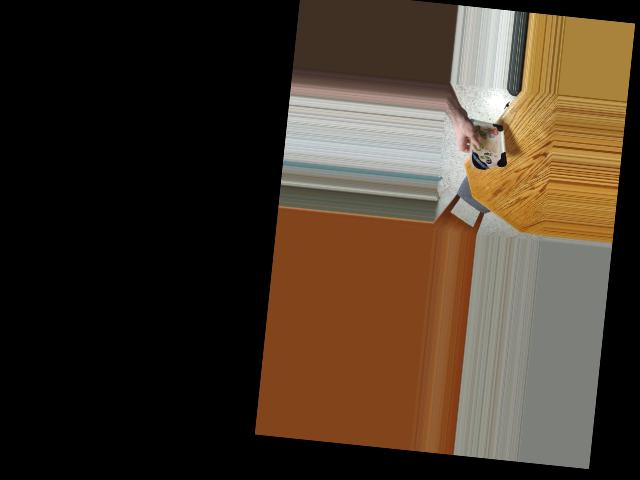cheese: (466, 113, 507, 174)
